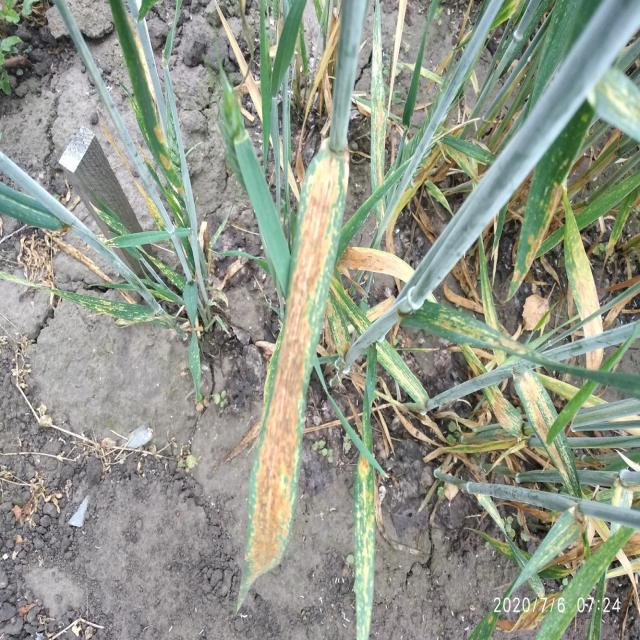wheat-septoria: (238, 141, 347, 612)
